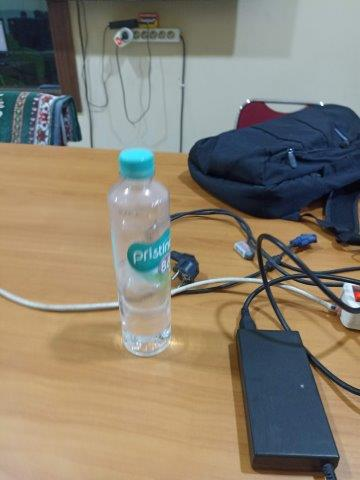botolplastik: (107, 147, 171, 356)
